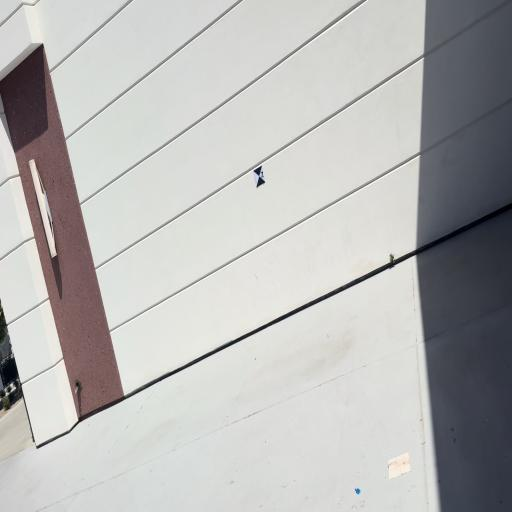target7: (254, 165, 266, 188)
